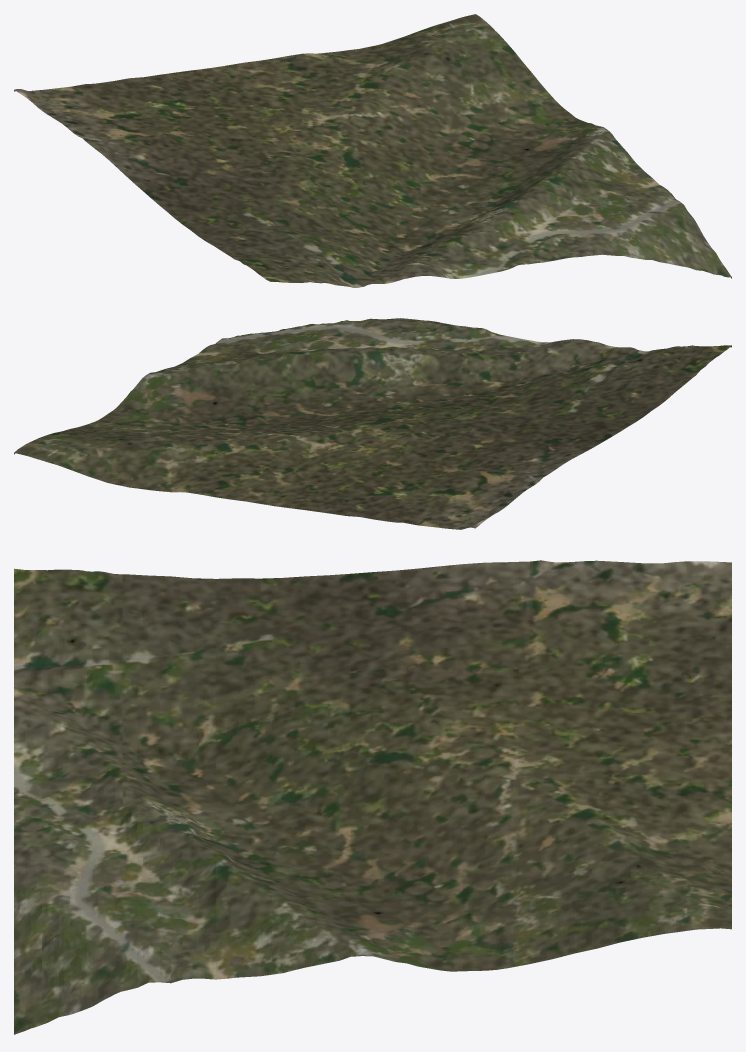
3 renders of one model, top to bottom at view 1: azimuth 30°, elevation 25°; view 2: azimuth 150°, elevation 25°; view 3: azimuth 270°, elevation 25°, orthographic. The views are drawn at different scales.
Bounding box in the file's own units: 250 × 59.92 × 241.
1 material, 1 textured.
